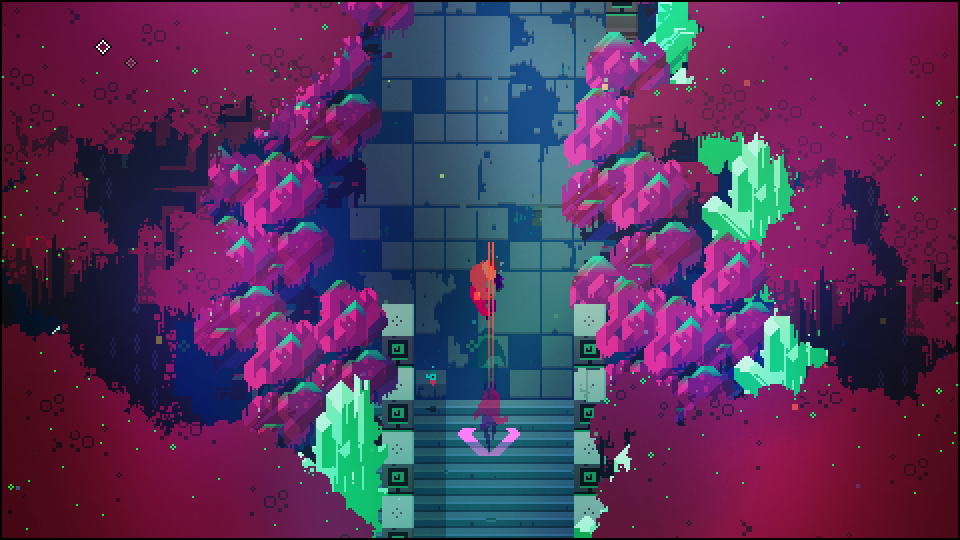player: (463, 249, 506, 301)
